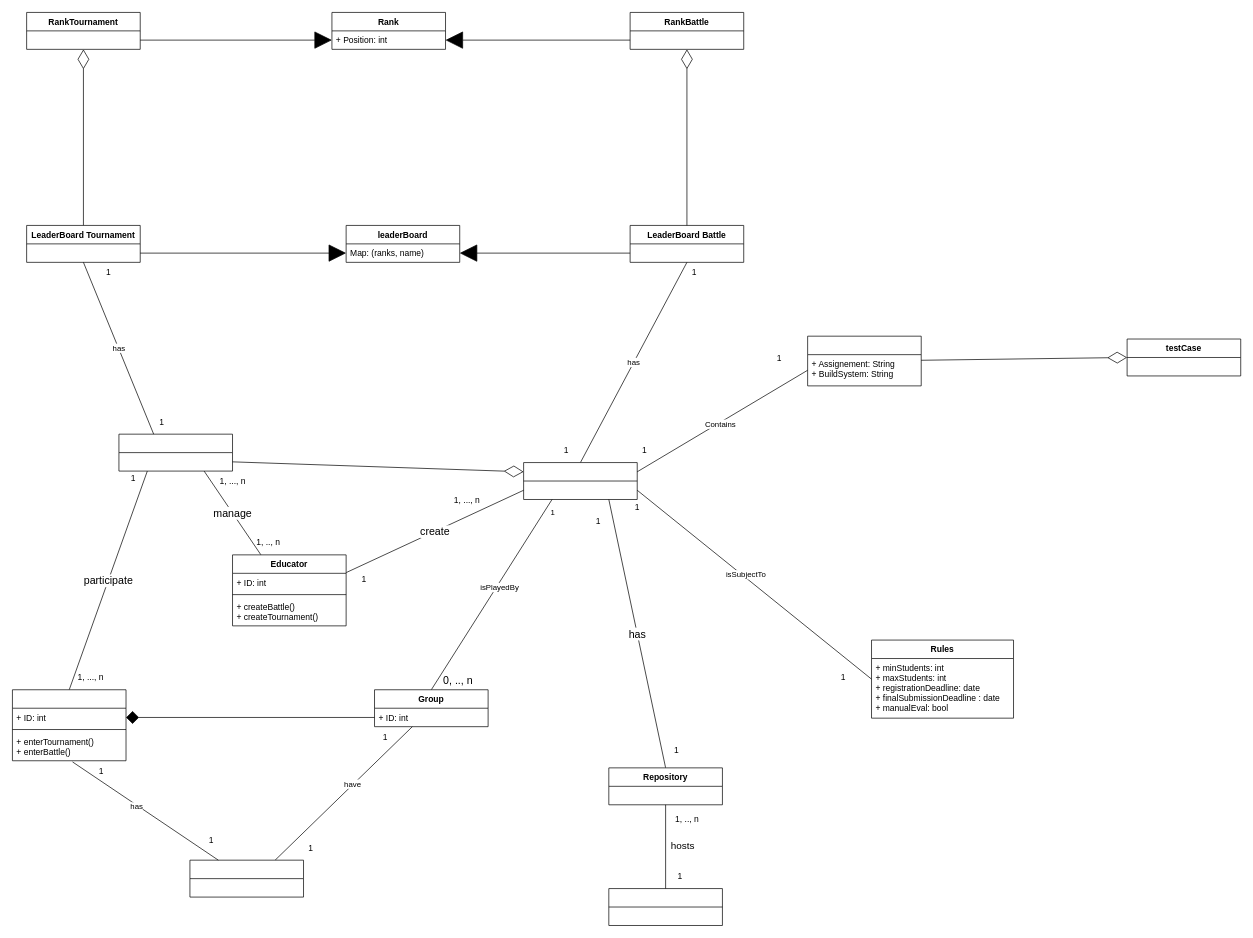
This 1253x938 diagram has some shape labels left out. The box of each missing label's shape, as (x1, y1, x2, y2) in pixels:
Battle: (523, 462, 637, 499)
codeKata: (807, 335, 921, 386)
Github: (608, 888, 722, 925)
Score: (189, 859, 304, 897)
Student: (12, 689, 126, 761)
Tournament: (118, 433, 233, 471)
